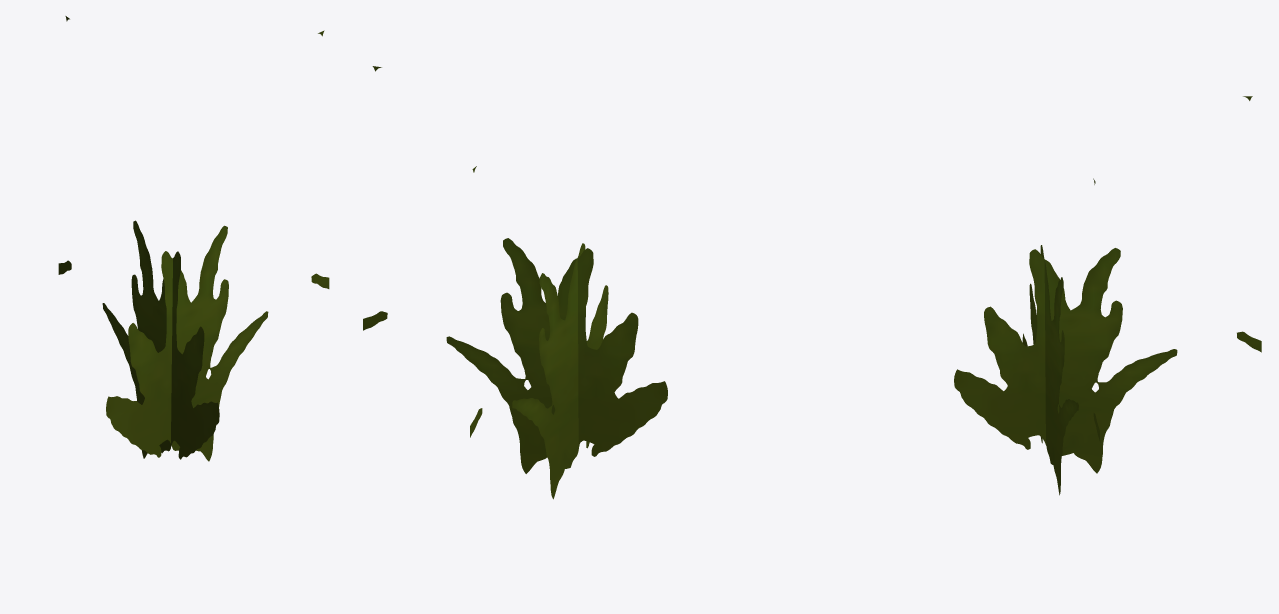
Rendered from KL_cao2.fbx.
3 renders of one model, left to right at view 1: azimuth 30°, elevation 25°; view 2: azimuth 150°, elevation 25°; view 3: azimuth 270°, elevation 25°, orthographic. The views are drawn at different scales.
Parts seen in each view (by area): view 1: polySurface1876; view 2: polySurface1876; view 3: polySurface1876.
Part boxes in pixels (box(x1,y1,x2,y2)): polySurface1876: box(58, 16, 329, 461); polySurface1876: box(363, 66, 667, 499); polySurface1876: box(954, 96, 1261, 495).
Size of the model in its own units: 0.6941 by 0.7588 by 0.7188.
